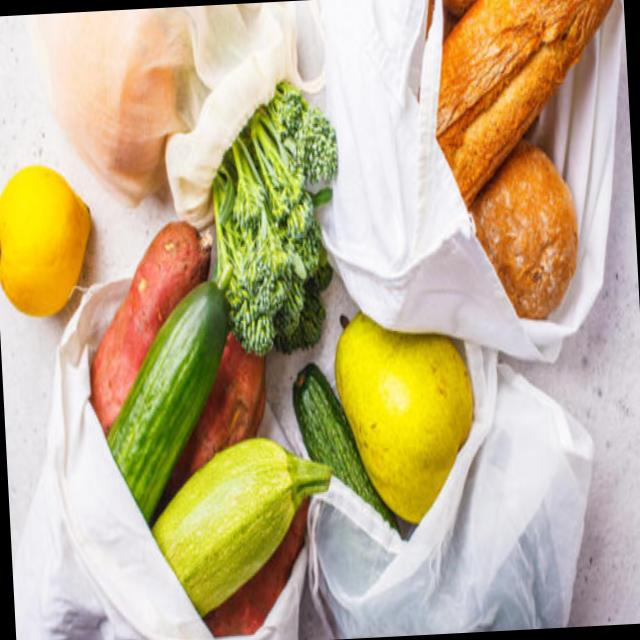paper: (134, 422, 335, 604), (203, 88, 342, 328), (340, 307, 490, 523), (114, 260, 237, 466), (480, 140, 584, 322), (268, 340, 377, 510), (0, 158, 93, 315)
